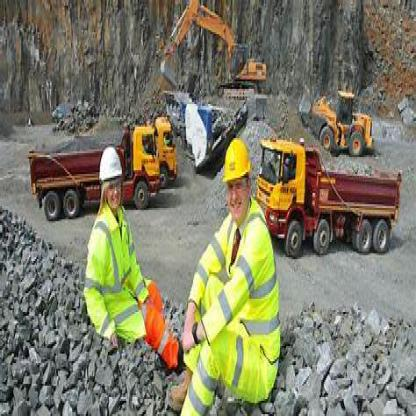person: (171, 144, 288, 406), (79, 127, 182, 378)
